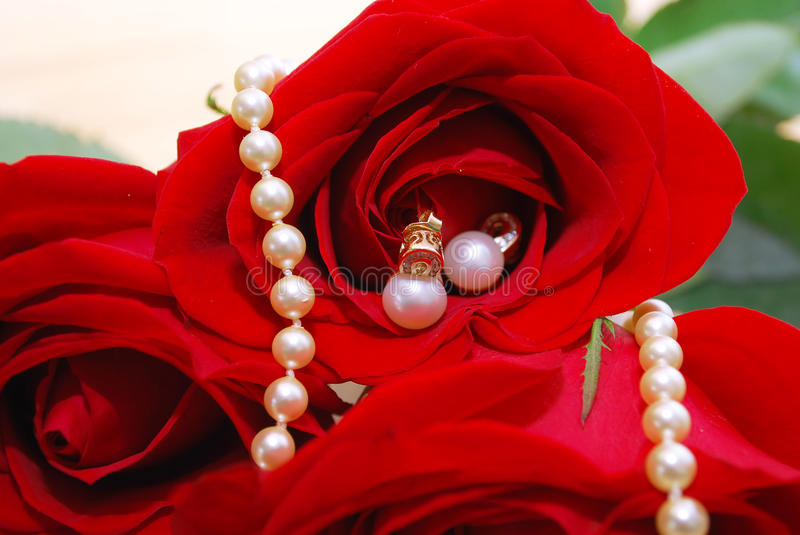RedRose: (172, 2, 768, 389), (0, 149, 252, 535)
